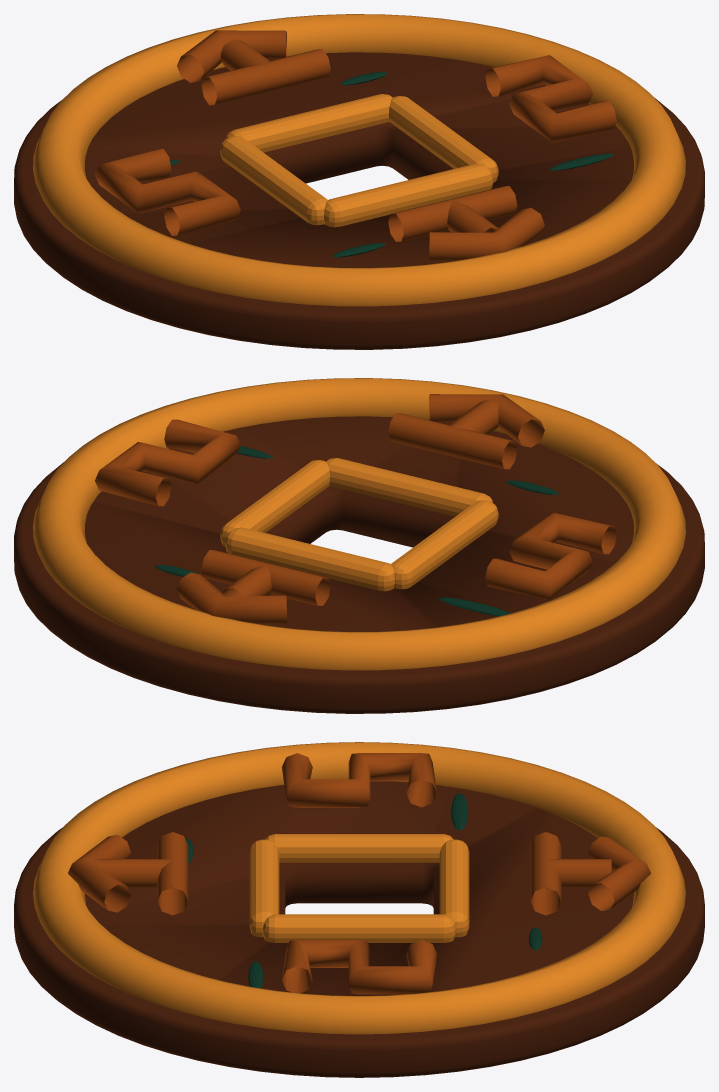
File: tongqian.glb
The picture shows the model from 3 angles, top to bottom: view 1: azimuth 30°, elevation 25°; view 2: azimuth 150°, elevation 25°; view 3: azimuth 270°, elevation 25°; orthographic projection.
Parts seen in each view (by area): view 1: tongqian; view 2: tongqian; view 3: tongqian.
Boxes of the visible parts, bbox=[...] form: tongqian: bbox=[14, 14, 704, 349]; tongqian: bbox=[14, 378, 704, 713]; tongqian: bbox=[14, 742, 704, 1077].
Size of the model in its own units: 1 by 0.12 by 1.
Materials: 1 (1 with a texture image).
